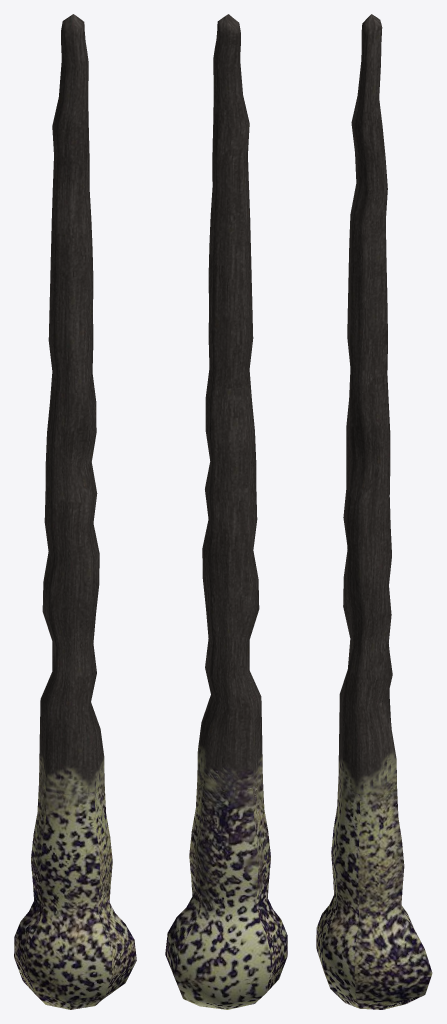
Rendered from wand2.fbx.
3 renders of one model, left to right at view 1: azimuth 30°, elevation 25°; view 2: azimuth 210°, elevation 25°; view 3: azimuth 330°, elevation 25°, orthographic.
Visible parts, largest first — view 1: Cube.004; view 2: Cube.004; view 3: Cube.004.
Part boxes in pixels (bbox=[...]): Cube.004: bbox=[14, 14, 136, 1009]; Cube.004: bbox=[165, 14, 287, 1009]; Cube.004: bbox=[316, 14, 432, 1009].
Size of the model in its own units: 2.58 by 22.68 by 2.25.
2 materials, 2 textured.
